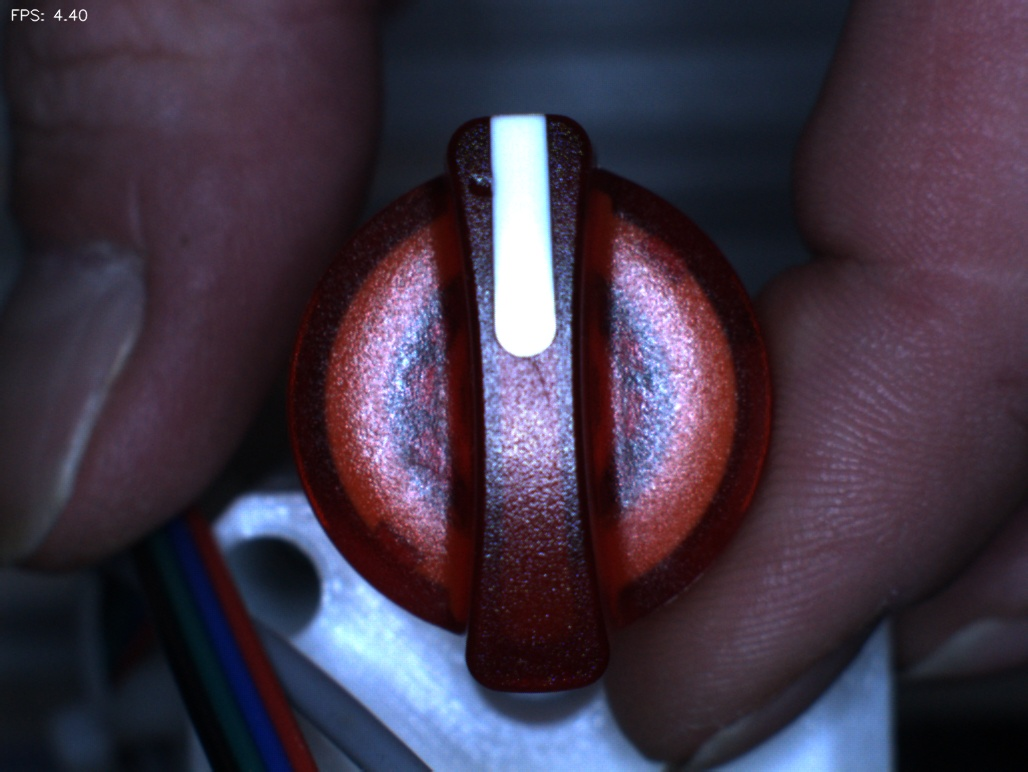Choc: (441, 141, 521, 221)
